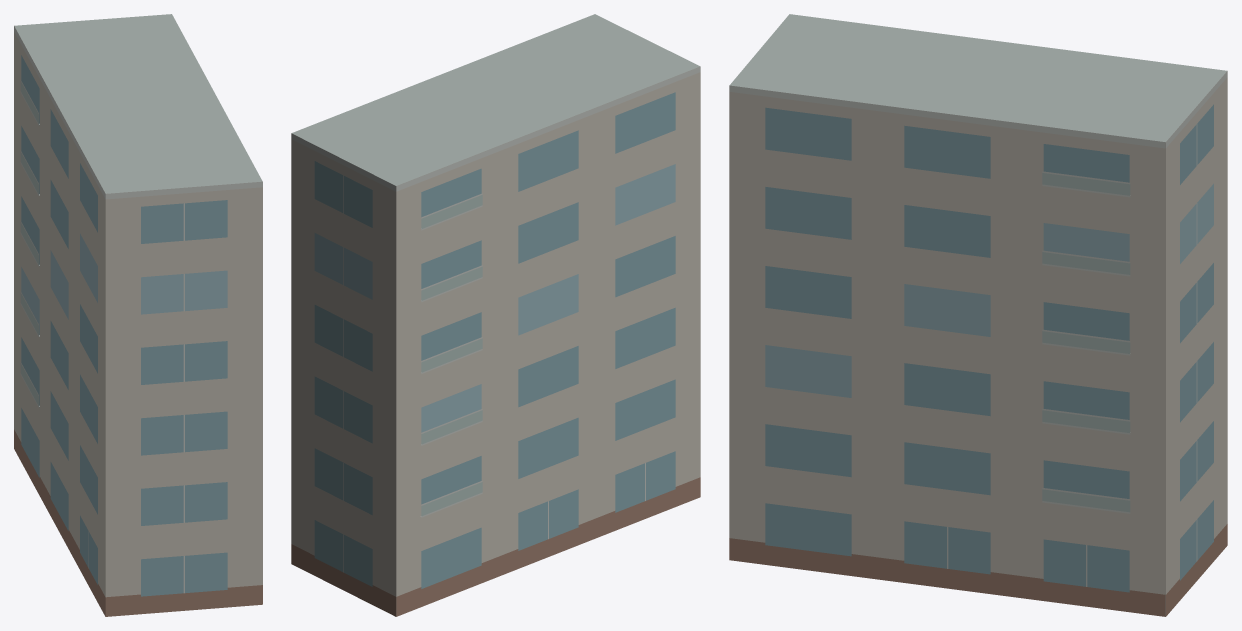
The model's file is survey-upis-32874441.glb.
3 views of the same model, side by side, from view 1: azimuth 30°, elevation 25°; view 2: azimuth 150°, elevation 25°; view 3: azimuth 270°, elevation 25° (orthographic). The views are drawn at different scales.
Parts seen in each view (by area): view 1: survey-upis-32874441.tmp; view 2: survey-upis-32874441.tmp; view 3: survey-upis-32874441.tmp.
Boxes of the visible parts, left/top/right/bottom form: survey-upis-32874441.tmp: left=14, top=14, right=262, bottom=616; survey-upis-32874441.tmp: left=291, top=14, right=700, bottom=616; survey-upis-32874441.tmp: left=729, top=14, right=1227, bottom=616.
Bounding box in the file's own units: 10.61 × 18.3 × 17.41.
